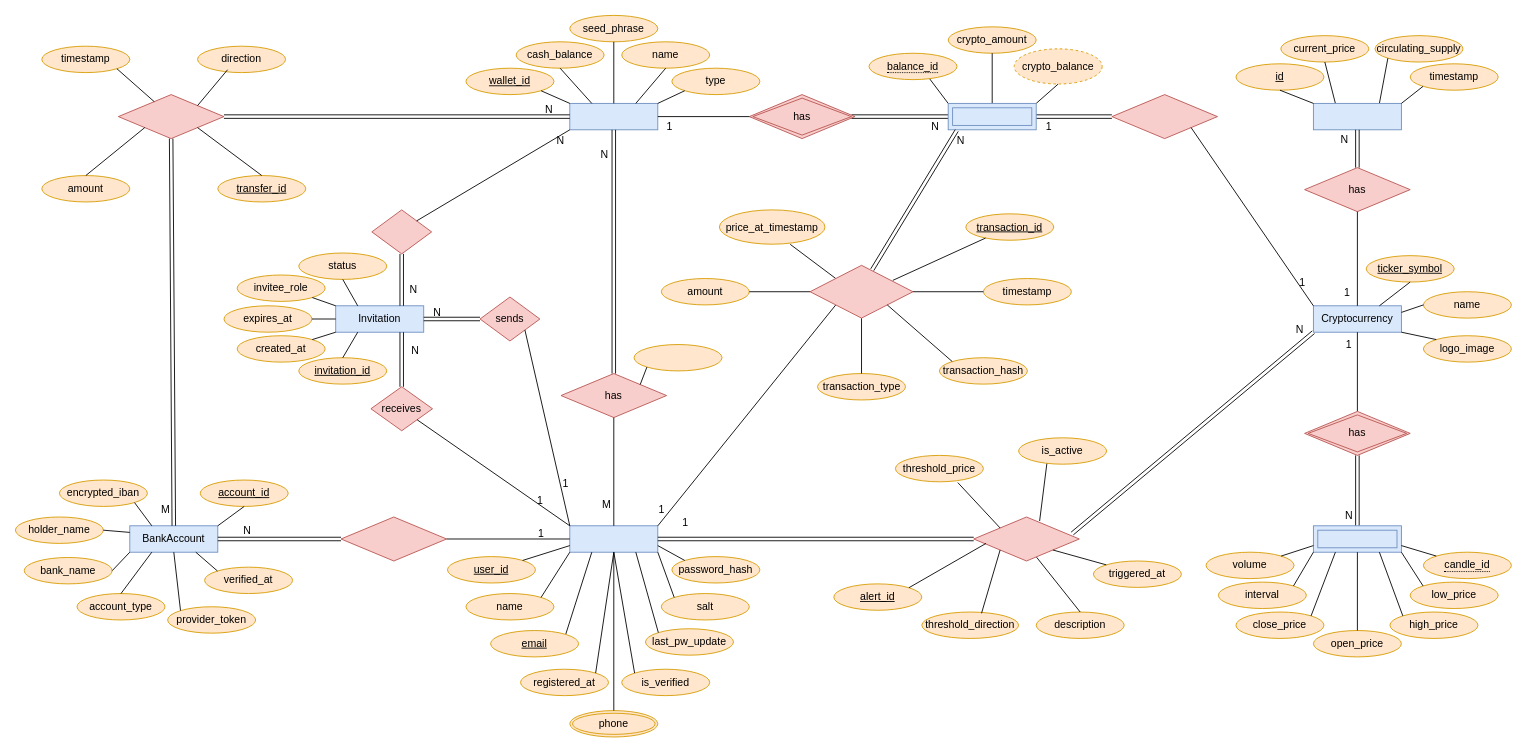
Image size: 1527x752. Some labels were removed from this diagram. The centre of each missing label's shape, as x and y in pixels:
Candlestick: the point at 1357,538
CryptoBalance: the point at 991,116
CryptoHistory: the point at 1357,116
gets alert from: the point at 1026,538
involves: the point at 1164,116
owns: the point at 393,538
refers to: the point at 401,231
role: the point at 677,357
transacts: the point at 861,291
transfers to: the point at 170,116
User: the point at 613,538
Wallet: the point at 613,116
